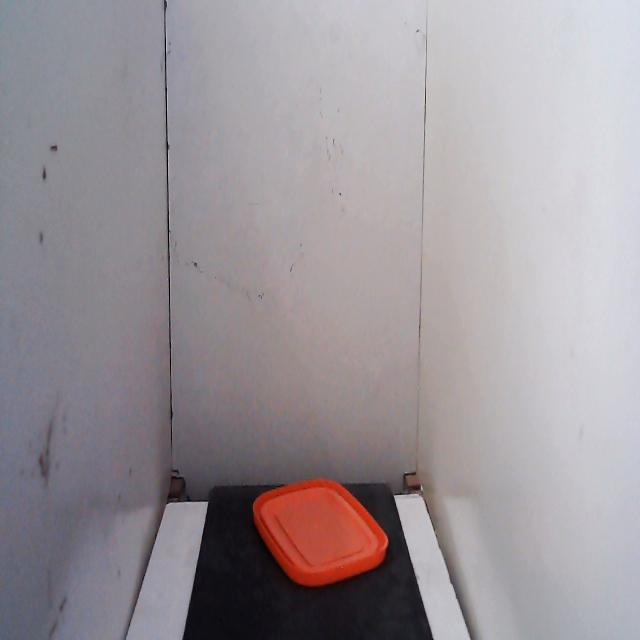plastico: (248, 462, 392, 604)
